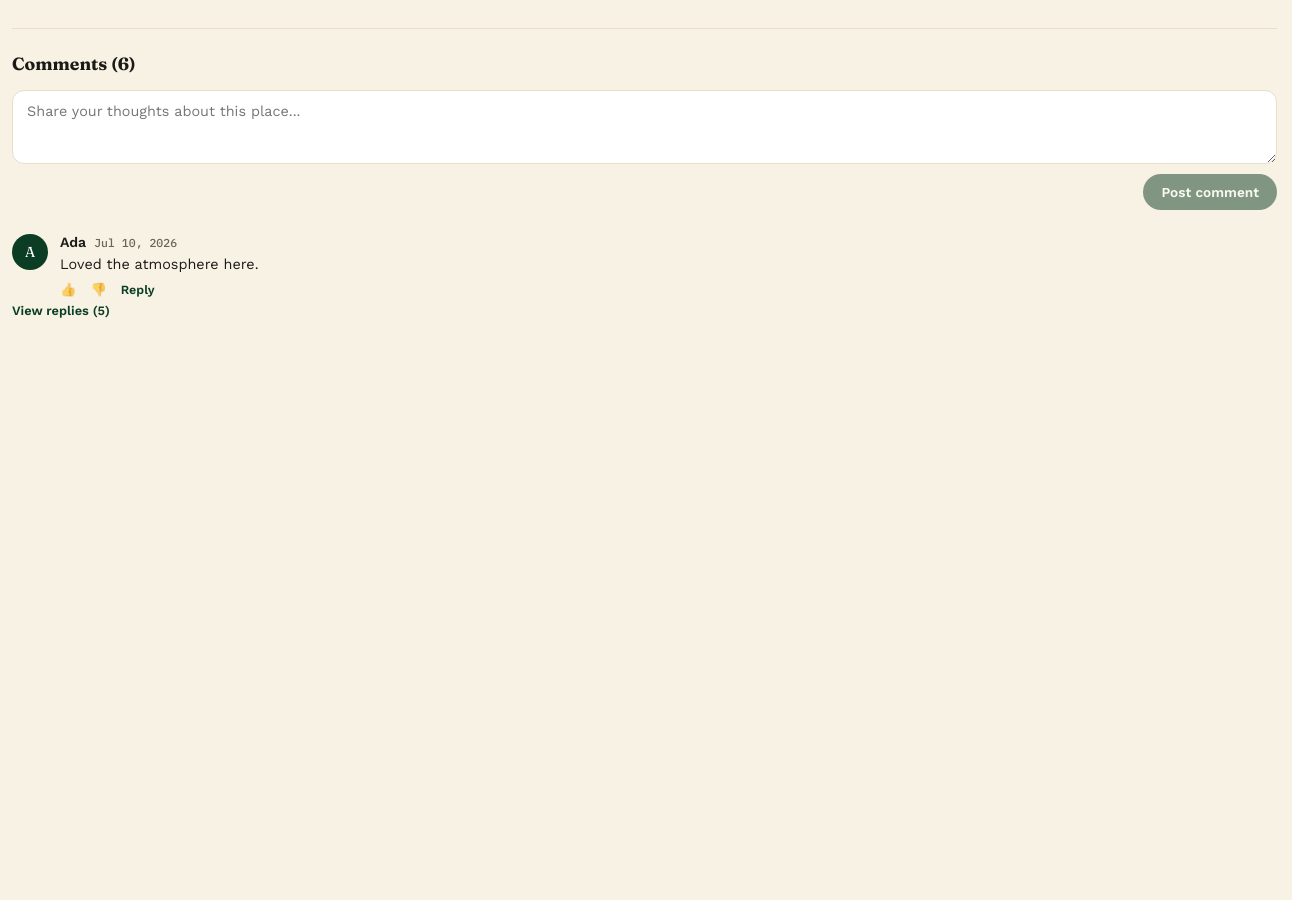
Test: CommentSection › paginates replies 3 at a time
Expected: the text "Loved the atmosphere here." is shown, [60,256,258,272]
Click the button "View replies (5)" at (61, 307), box [12,297,110,318]
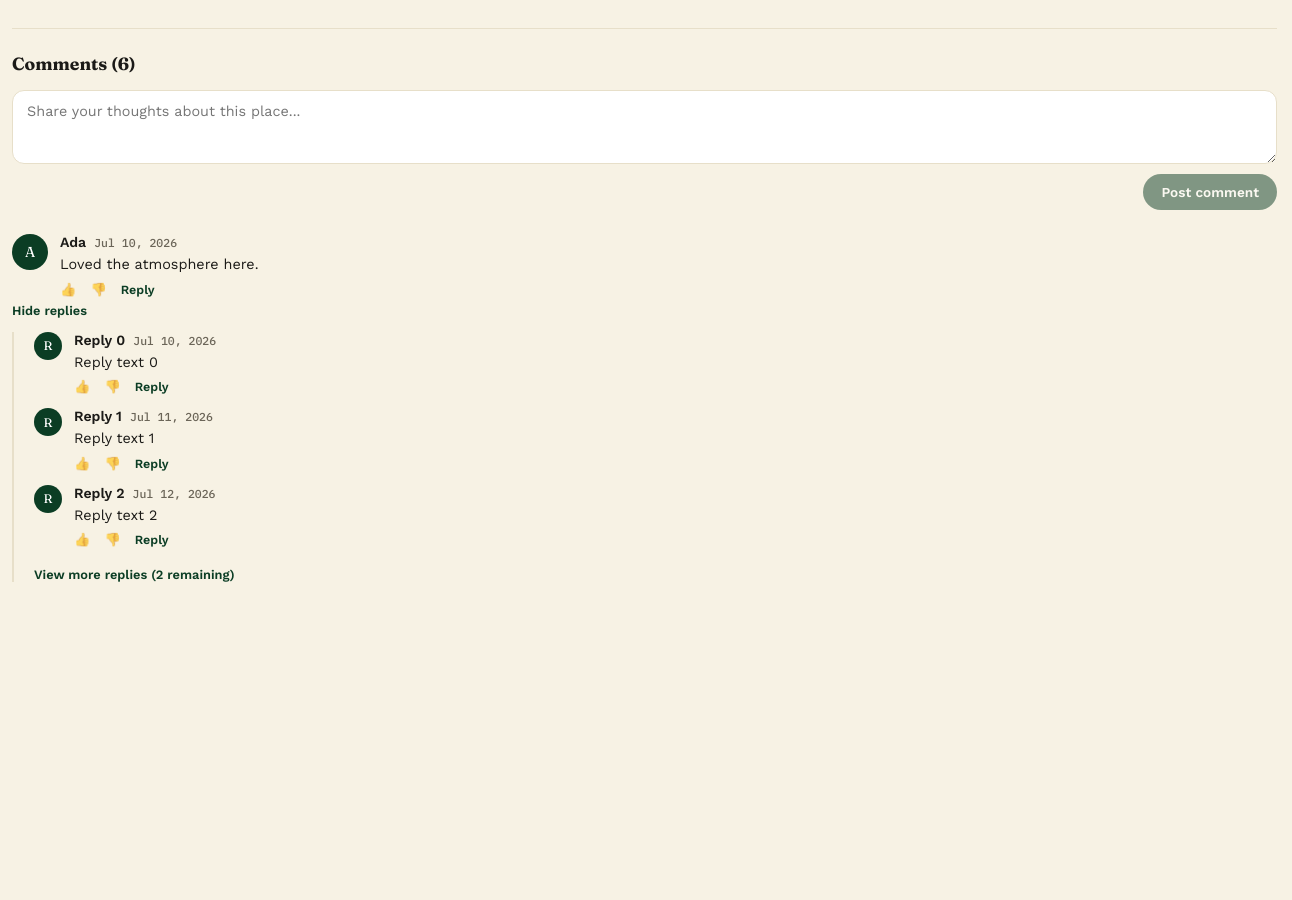
Now the text "Reply text 0" is shown, box [74,354,158,370]
Now the text "Reply text 1" is shown, box [74,430,154,446]
Now the text "Reply text 2" is shown, box [74,507,157,523]
Click the button "View more replies (2 remaining)" at (134, 572), box [34,561,235,582]
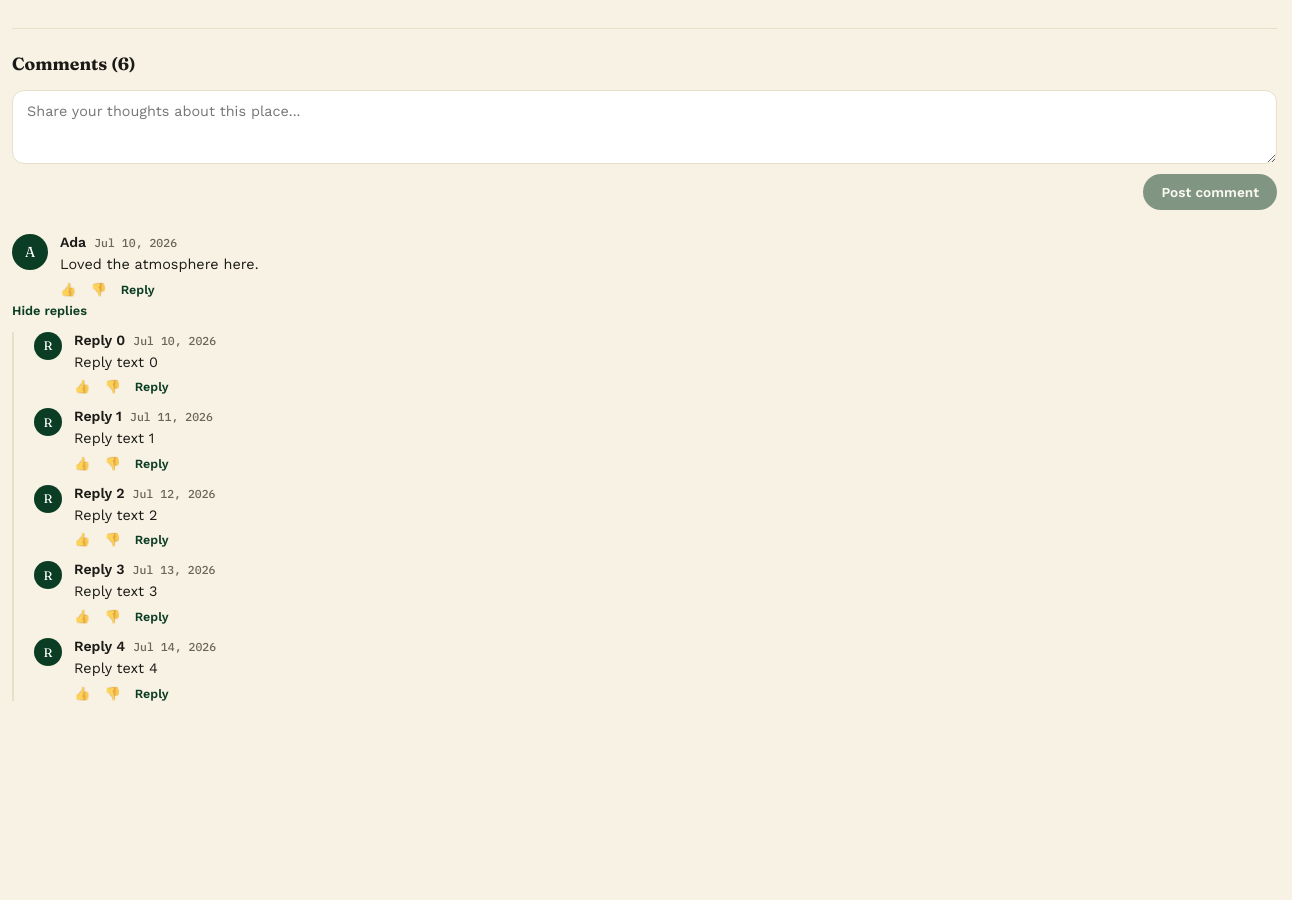
Now the text "Reply text 3" is shown, box [74,583,157,599]
Now the text "Reply text 4" is shown, box [74,660,158,676]
